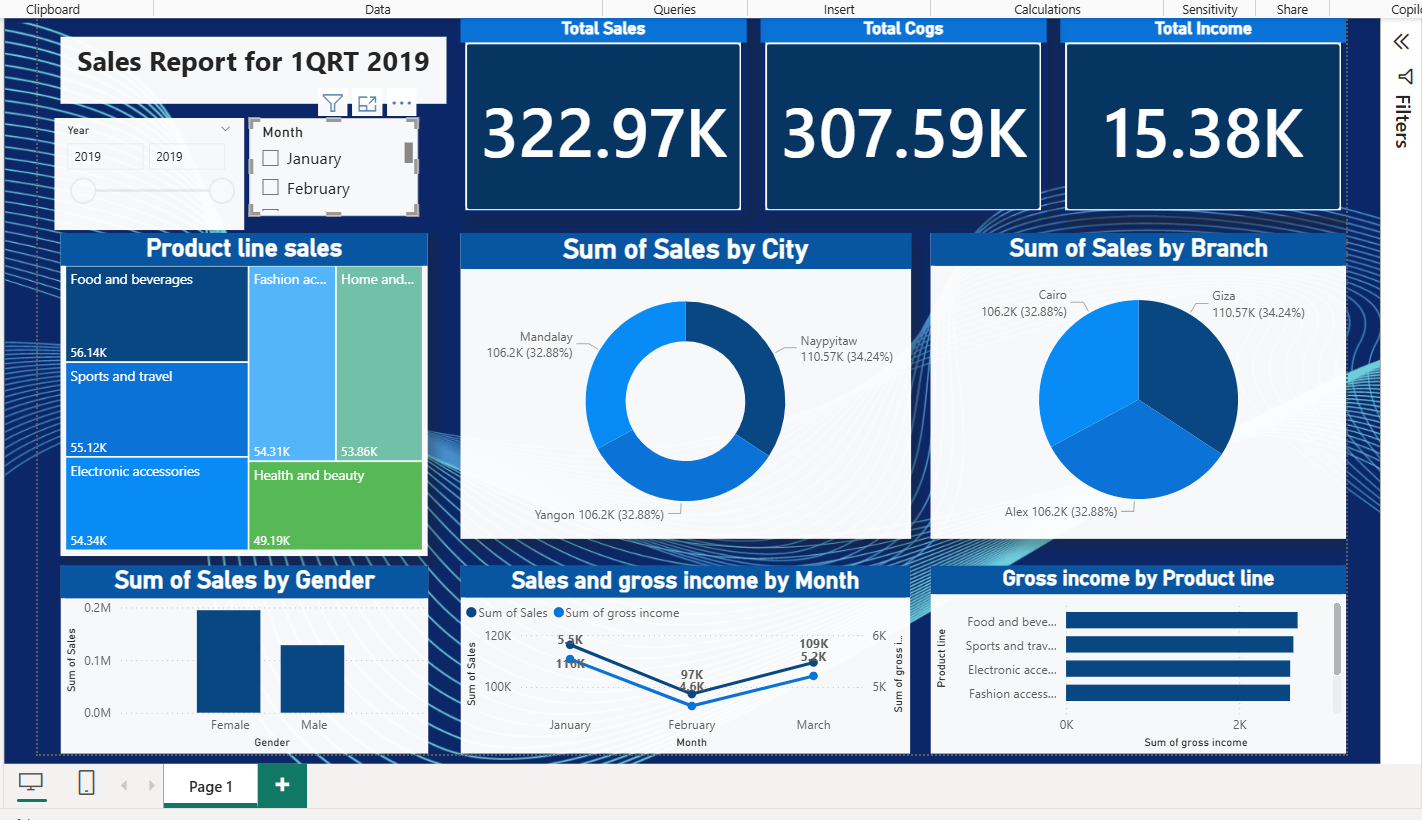

The page's visual inventory and layout, read from the dashboard file:
{"tool":"powerbi","page":{"name":"Page 1","canvas":[1280,720],"ordinal":0},"visuals":[{"type":"cardVisual","title":"Gross Income","fields":{"Data":["Sum(SuperMarket Analysis.gross income)"]},"box":[1000.3,0,279.9,193.5],"z":0},{"type":"cardVisual","title":"Total Income","fields":{"Data":["Sum(SuperMarket Analysis.gross income)"]},"box":[1000.1,0,279.9,193.5],"z":1},{"type":"cardVisual","title":"Total Cogs","fields":{"Data":["Sum(SuperMarket Analysis.cogs)"]},"box":[706.7,0,279.9,193.5],"z":2},{"type":"cardVisual","title":"Total Sales","fields":{"Data":["SuperMarket Analysis.Total_Sales"]},"box":[413,0,279.9,193.5],"z":3},{"type":"pieChart","fields":{"Category":["SuperMarket Analysis.Branch"],"Y":["Sum(SuperMarket Analysis.Sales)"]},"box":[872.7,209.9,407.5,299.1],"z":4},{"type":"donutChart","fields":{"Category":["SuperMarket Analysis.City"],"Y":["Sum(SuperMarket Analysis.Sales)"]},"box":[413,209.9,440.5,299.1],"z":5},{"type":"treemap","title":"Product line sales","fields":{"Group":["SuperMarket Analysis.Product line"],"Values":["Sum(SuperMarket Analysis.Sales)"]},"box":[22,209.9,359.5,315.6],"z":6},{"type":"columnChart","fields":{"Category":["SuperMarket Analysis.Gender"],"Y":["Sum(SuperMarket Analysis.Sales)"]},"box":[22,536,360,184],"z":7},{"type":"slicer","fields":{"Values":["SuperMarket Analysis.Date.Variation.Date Hierarchy.Year"]},"box":[16.5,97.4,185.2,109.8],"z":8},{"type":"slicer","fields":{"Values":["SuperMarket Analysis.Date.Variation.Date Hierarchy.Month"]},"box":[207.2,97.4,164.7,96.1],"z":9},{"type":"lineChart","title":" Sales and gross income by Month","fields":{"Category":["SuperMarket Analysis.Date.Variation.Date Hierarchy.Month"],"Y":["Sum(SuperMarket Analysis.Sales)"],"Y2":["Sum(SuperMarket Analysis.gross income)"]},"box":[413,536,440,184],"z":10},{"type":"clusteredBarChart","title":"Gross income by Product line","fields":{"Category":["SuperMarket Analysis.Product line"],"Y":["Sum(SuperMarket Analysis.gross income)"]},"box":[873,536,407,184],"z":11},{"type":"textbox","box":[22,17.8,377.4,65.9],"z":12}]}

Visuals, with their boxes on the page's 1280x720 design canvas (x1, y1, x2, y2). These are canvas units, not pixel positions in the 1422x820 screenshot, which may show the page scaled, cropped or inside an application window:
"Gross Income" cardVisual: 1000/0/1280/194
"Total Income" cardVisual: 1000/0/1280/194
"Total Cogs" cardVisual: 707/0/987/194
"Total Sales" cardVisual: 413/0/693/194
pieChart - SuperMarket Analysis.Branch x Sum(SuperMarket Analysis.Sales): 873/210/1280/509
donutChart - SuperMarket Analysis.City x Sum(SuperMarket Analysis.Sales): 413/210/854/509
"Product line sales" treemap: 22/210/382/526
columnChart - SuperMarket Analysis.Gender x Sum(SuperMarket Analysis.Sales): 22/536/382/720
slicer - SuperMarket Analysis.Date.Variation.Date Hierarchy.Year: 16/97/202/207
slicer - SuperMarket Analysis.Date.Variation.Date Hierarchy.Month: 207/97/372/194
" Sales and gross income by Month" lineChart: 413/536/853/720
"Gross income by Product line" clusteredBarChart: 873/536/1280/720
textbox: 22/18/399/84
